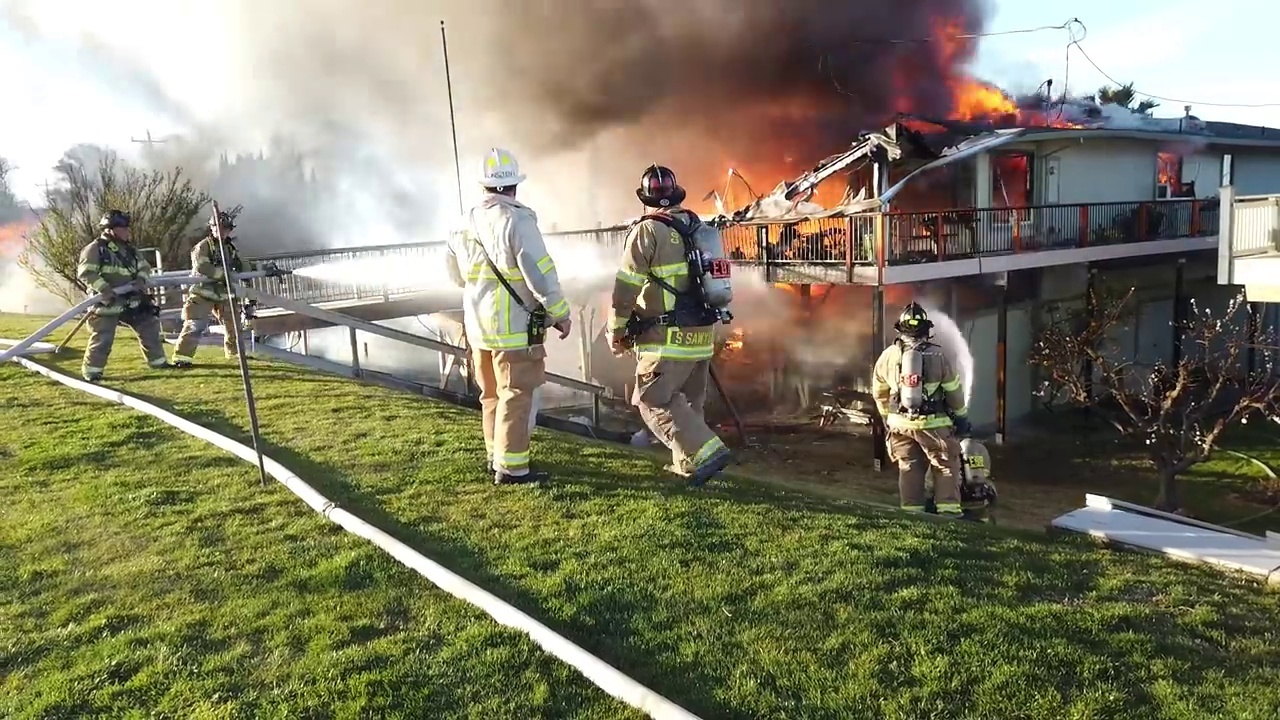fire: (914, 61, 1082, 125), (1153, 154, 1184, 183), (1048, 111, 1083, 125)
smoke: (191, 3, 472, 243), (536, 1, 1002, 98), (688, 110, 870, 218), (528, 103, 640, 224), (895, 144, 975, 198), (1093, 91, 1199, 131), (361, 330, 442, 382), (286, 326, 355, 366), (551, 329, 592, 374), (992, 158, 1027, 202), (1176, 125, 1209, 163)
